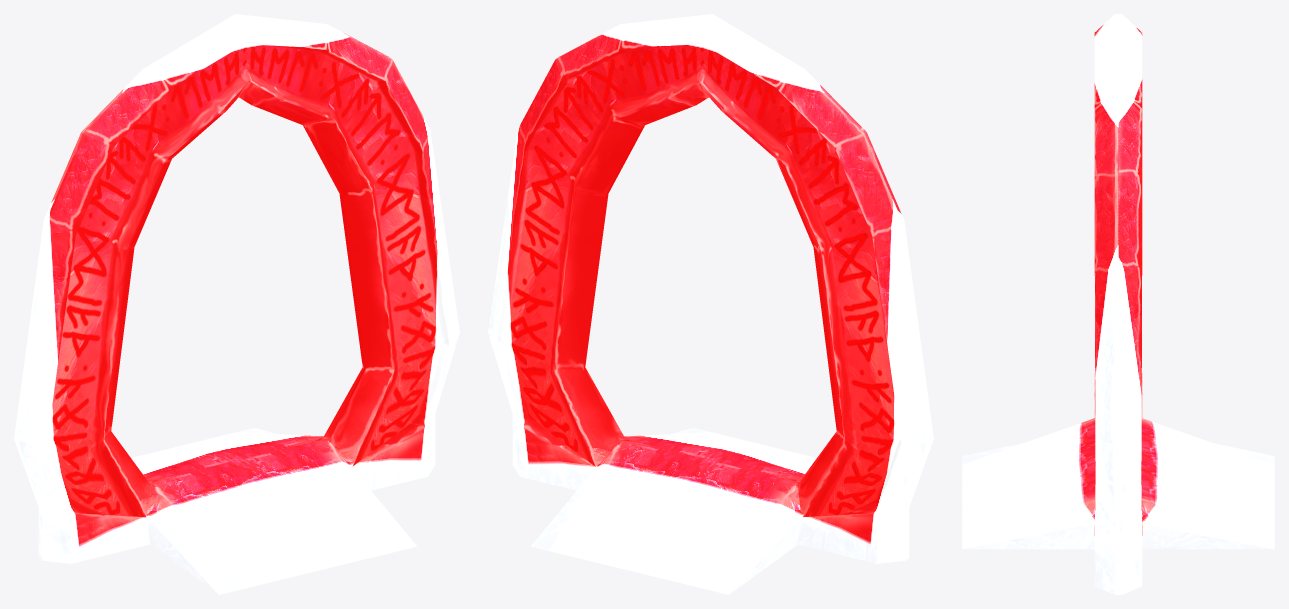
File: HellGatePrep.fbx
The picture shows the model from 3 angles, left to right: view 1: azimuth 30°, elevation 25°; view 2: azimuth 150°, elevation 25°; view 3: azimuth 270°, elevation 25°; orthographic projection. The views are drawn at different scales.
Parts seen in each view (by area): view 1: Cube; view 2: Cube; view 3: Cube.
Part boxes in pixels (x1,y1,x2,y2): Cube: (14,14,459,594); Cube: (488,14,933,594); Cube: (962,14,1274,594).
Bounding box in the file's own units: 910 × 973 × 578.
Materials: 1 (1 with a texture image).
